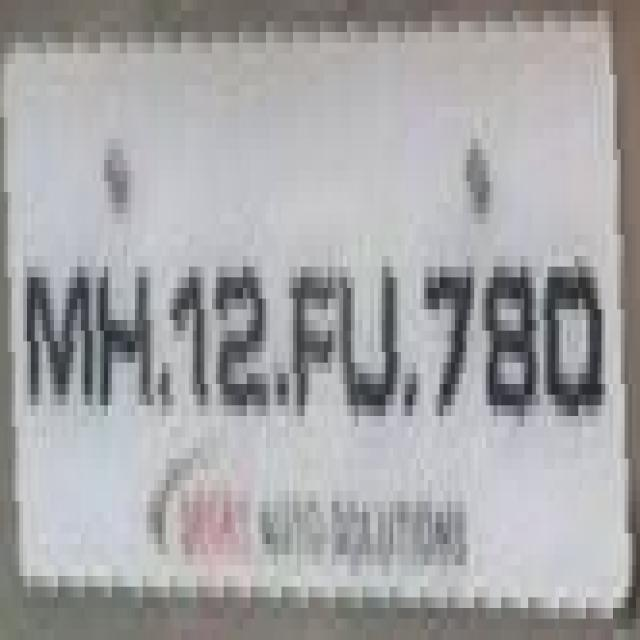license_plate: (15, 22, 640, 566)
